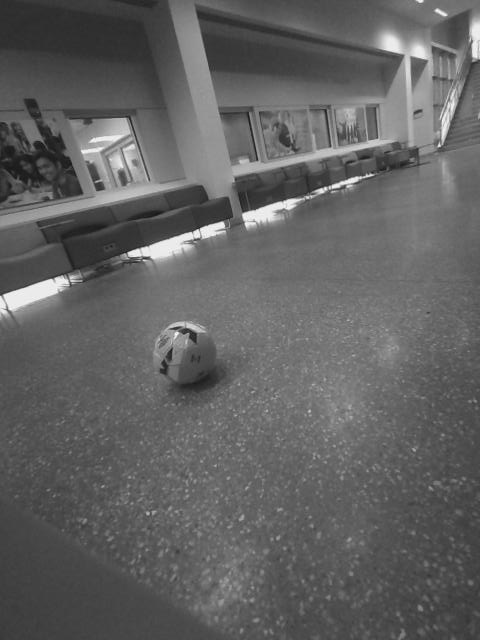ball: (147, 318, 223, 386)
